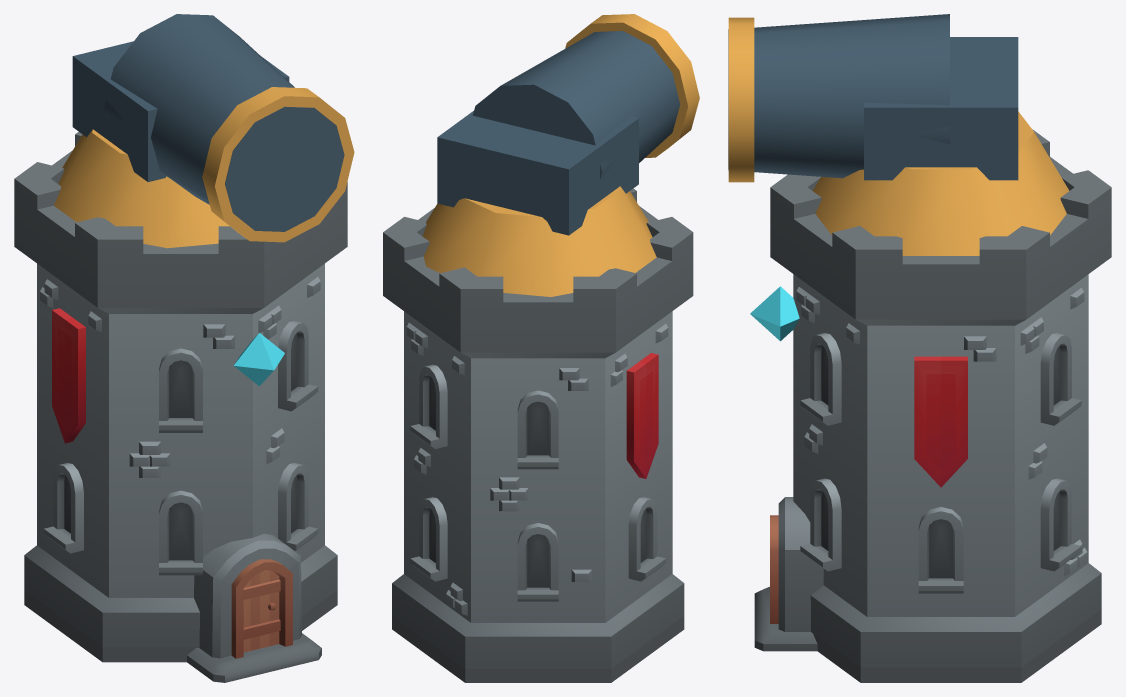
The model's file is tower_cannon_l1.glb.
3 views of the same model, side by side, from view 1: azimuth 30°, elevation 25°; view 2: azimuth 150°, elevation 25°; view 3: azimuth 270°, elevation 25° (orthographic). The views are drawn at different scales.
Visible parts, largest first — view 1: Base, BarrelAssembly, Turret; view 2: Base, BarrelAssembly, Turret; view 3: Base, BarrelAssembly, Turret.
Part boxes in pixels (box(x1,y1,x2,y2)): Base: box(14, 131, 347, 682); BarrelAssembly: box(72, 14, 354, 242); Turret: box(54, 129, 229, 248); Base: box(383, 188, 693, 682); BarrelAssembly: box(437, 14, 699, 235); Turret: box(422, 186, 656, 296); Base: box(750, 129, 1111, 682); BarrelAssembly: box(728, 14, 1018, 182); Turret: box(813, 111, 1069, 255).
Bounding box in the file's own units: 0.9298 × 2.07 × 1.19.
4 materials, 1 textured.
